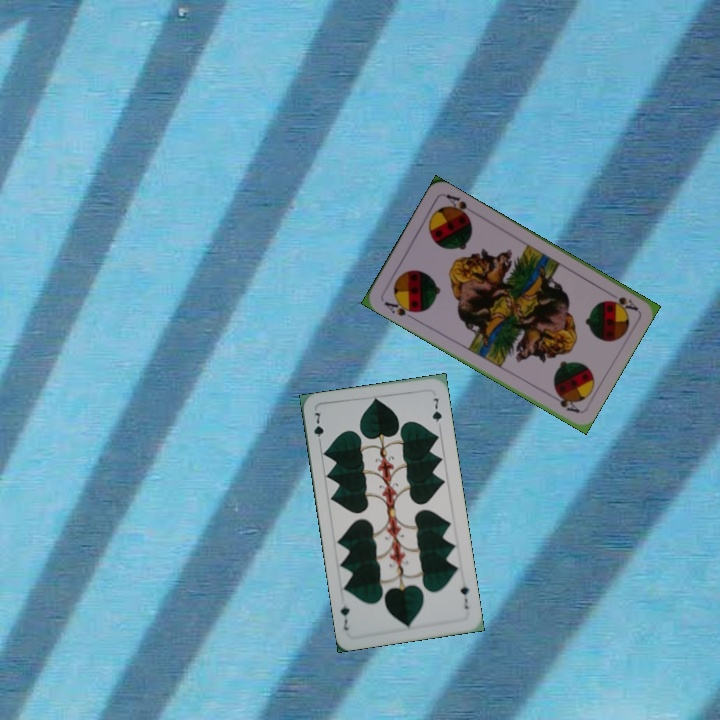G7: (310, 408, 326, 448), (456, 576, 474, 611)
SA: (380, 296, 419, 319), (605, 292, 640, 313)
